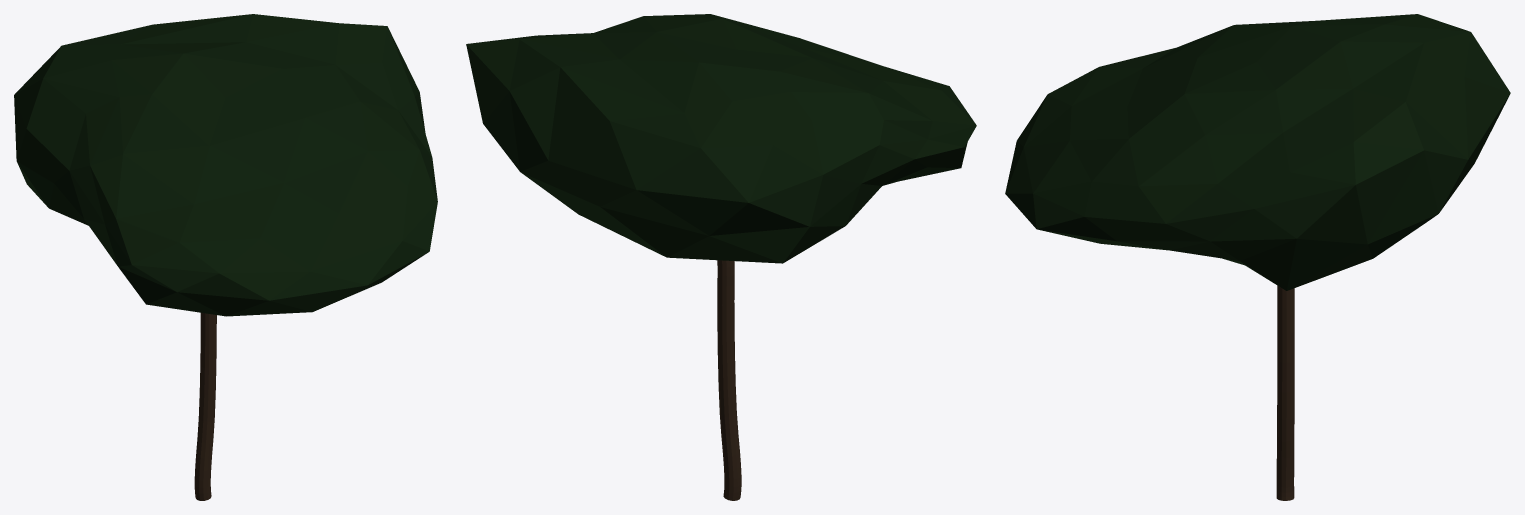
File: SM_light_tree_02.fbx
3 renders of one model, left to right at view 1: azimuth 30°, elevation 25°; view 2: azimuth 150°, elevation 25°; view 3: azimuth 270°, elevation 25°, orthographic. The views are drawn at different scales.
Parts seen in each view (by area): view 1: light_tree_02; view 2: light_tree_02; view 3: light_tree_02.
Boxes of the visible parts, x1,y1,x2,y2 form: light_tree_02: [14, 14, 437, 500]; light_tree_02: [466, 14, 976, 500]; light_tree_02: [1005, 14, 1510, 500].
Size of the model in its own units: 59.87 by 65.13 by 64.82.
